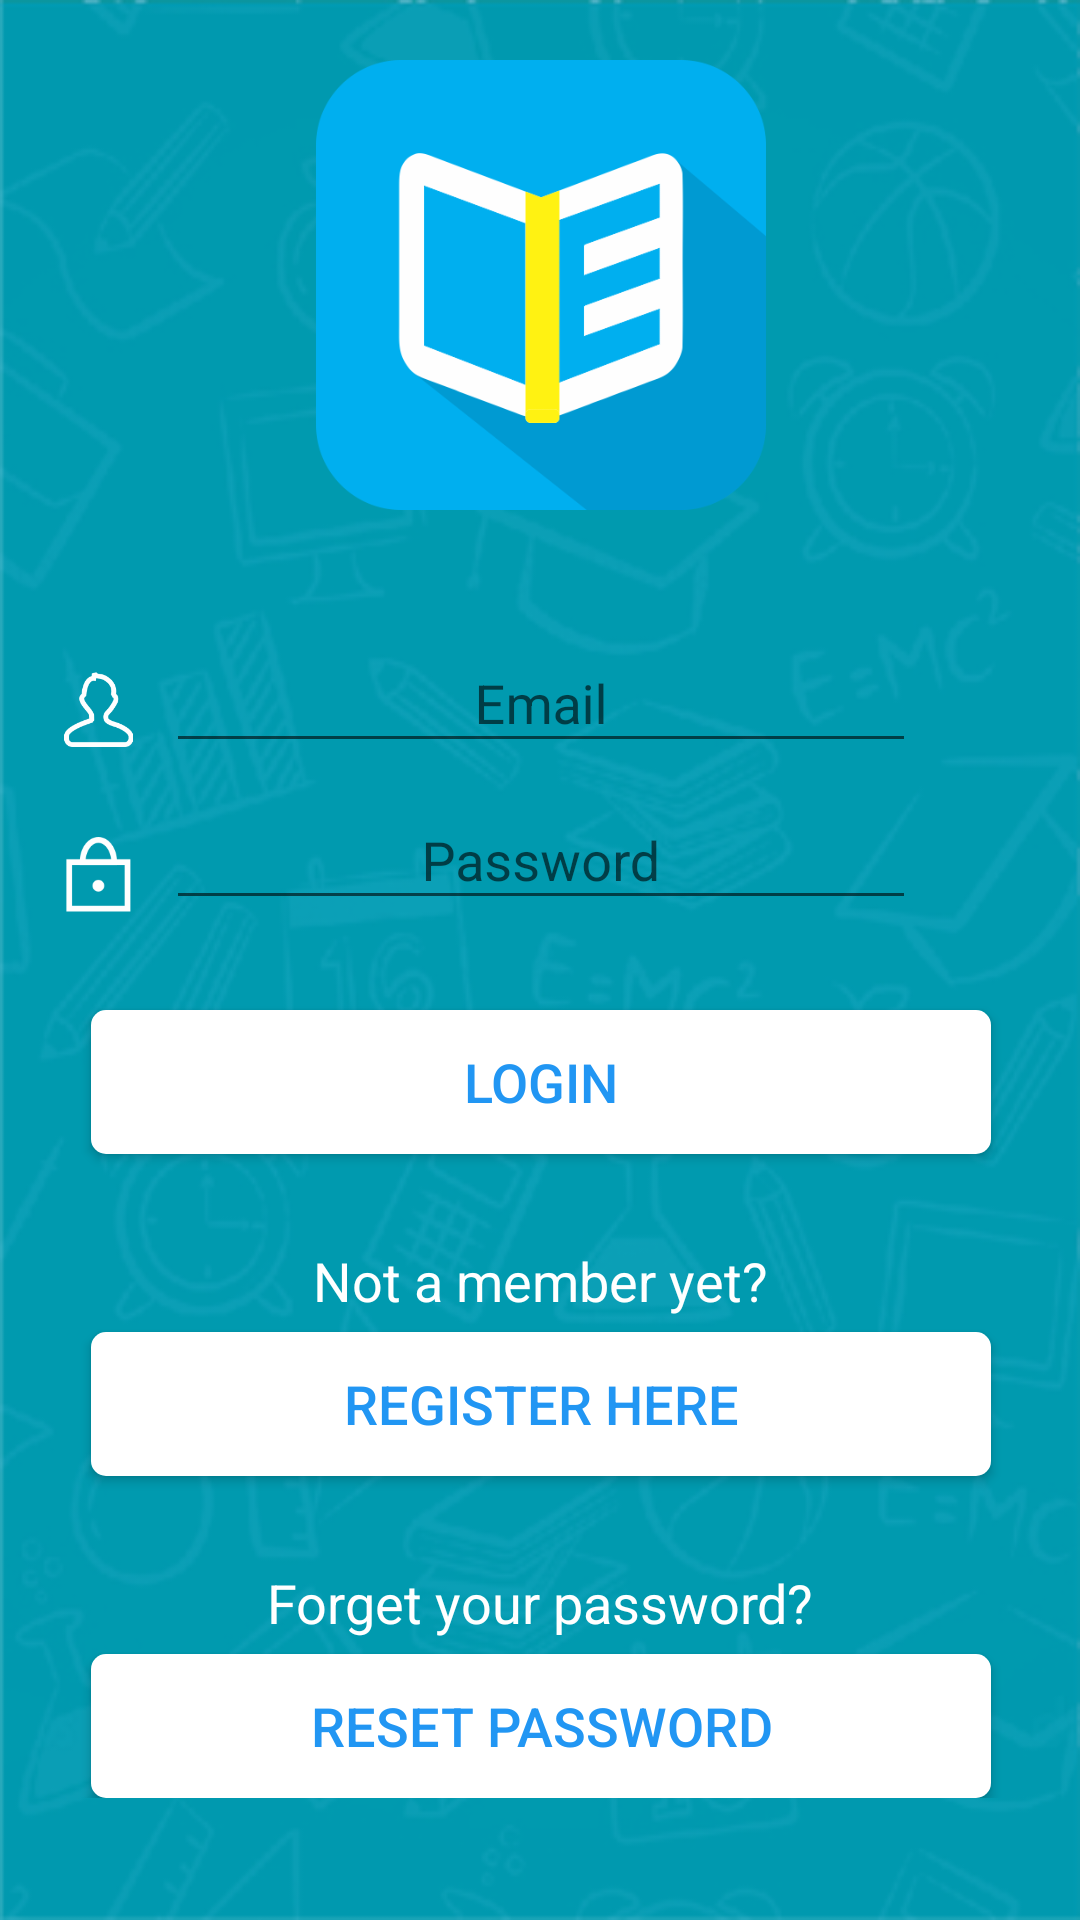

Where to tap for icons on this 1080×1920 app screen, as (x=x, y=y):
username: (x=98, y=709)
